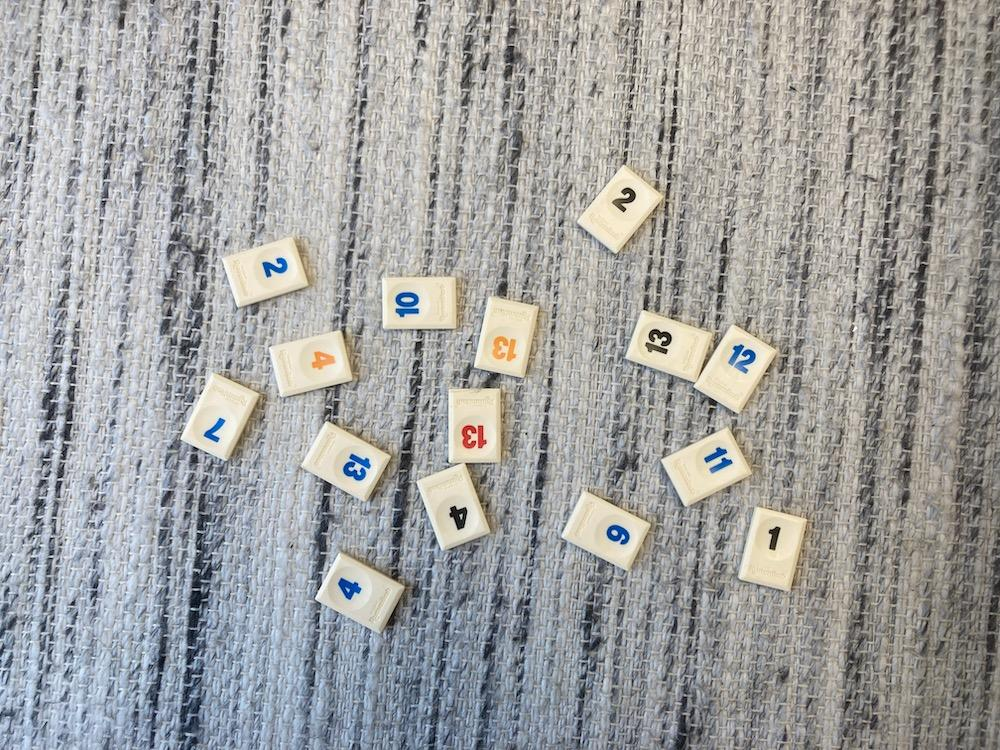black_1: (738, 508, 807, 592)
black_13: (625, 311, 713, 383)
black_2: (580, 166, 662, 252)
black_4: (418, 463, 490, 551)
blue_10: (384, 277, 457, 330)
blue_11: (662, 428, 752, 506)
blue_12: (695, 324, 777, 412)
blue_13: (301, 422, 391, 502)
blue_2: (223, 236, 309, 307)
blue_4: (316, 553, 404, 633)
blue_6: (562, 490, 650, 570)
blue_7: (182, 373, 260, 461)
orange_13: (475, 297, 539, 377)
orange_4: (270, 330, 352, 396)
red_13: (449, 389, 502, 463)
